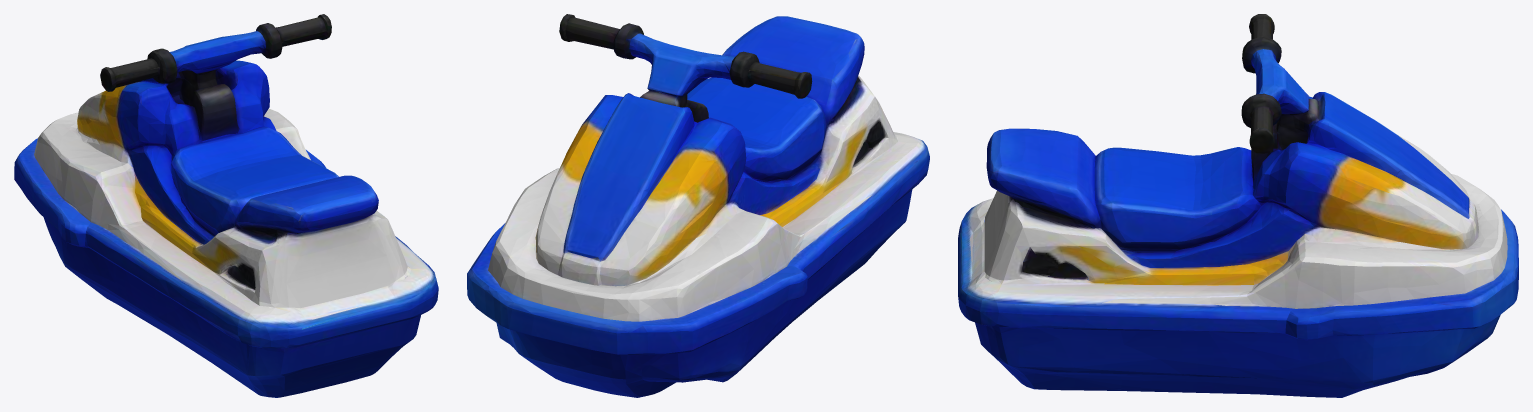
The model's file is cs_v_moto_acqua.glb.
The picture shows the model from 3 angles, left to right: view 1: azimuth 30°, elevation 25°; view 2: azimuth 150°, elevation 25°; view 3: azimuth 270°, elevation 25°; orthographic projection. The views are drawn at different scales.
Visible parts, largest first — view 1: v_moto_acqua; view 2: v_moto_acqua; view 3: v_moto_acqua.
Boxes of the visible parts, x1=… form: v_moto_acqua: x1=14, y1=14, x2=438, y2=397; v_moto_acqua: x1=467, y1=14, x2=929, y2=397; v_moto_acqua: x1=958, y1=14, x2=1518, y2=397.
Bounding box in the file's own units: 1.74 × 1.75 × 3.
1 material, 1 textured.
